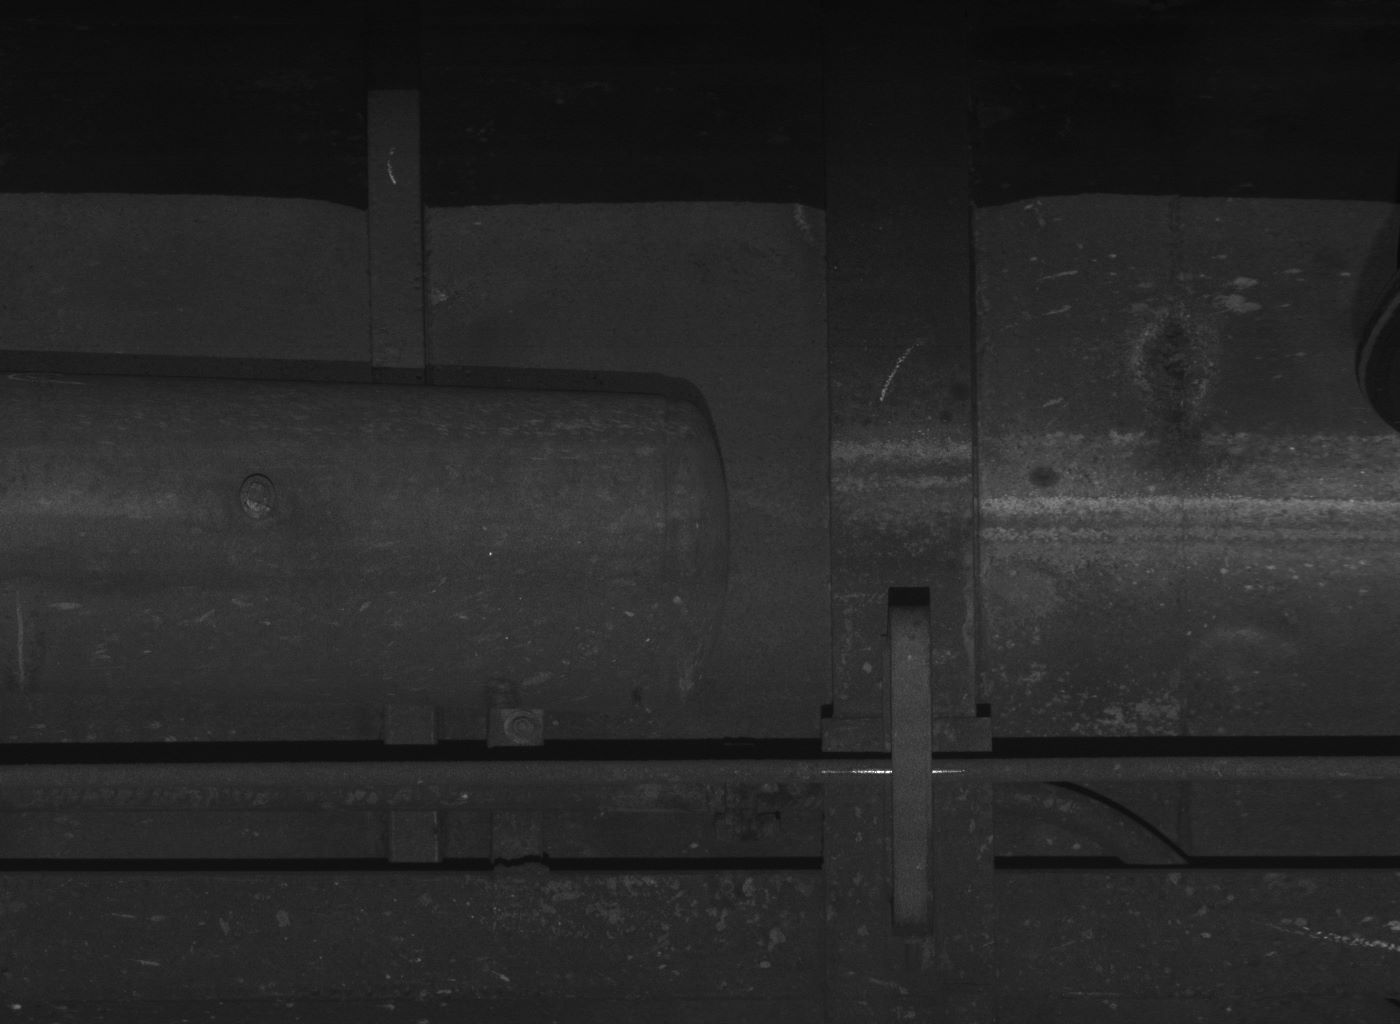normal: (888, 605, 929, 942)
